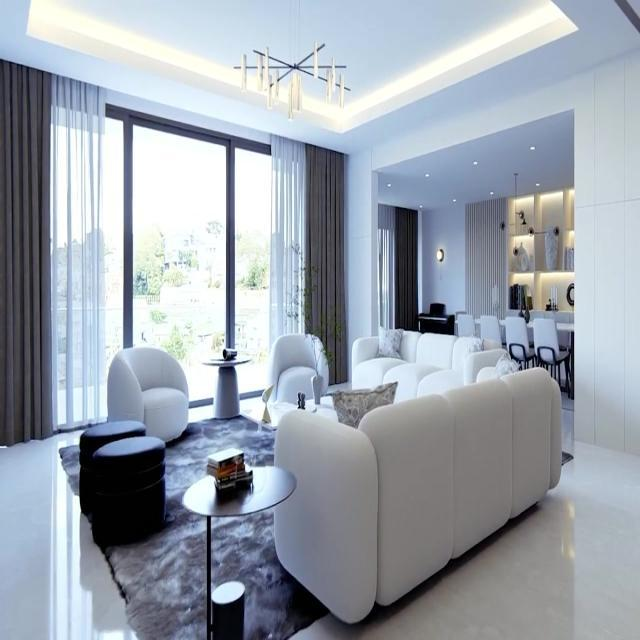obstacle: (272, 362, 562, 624), (182, 464, 296, 638), (351, 329, 508, 402), (200, 353, 252, 419)
